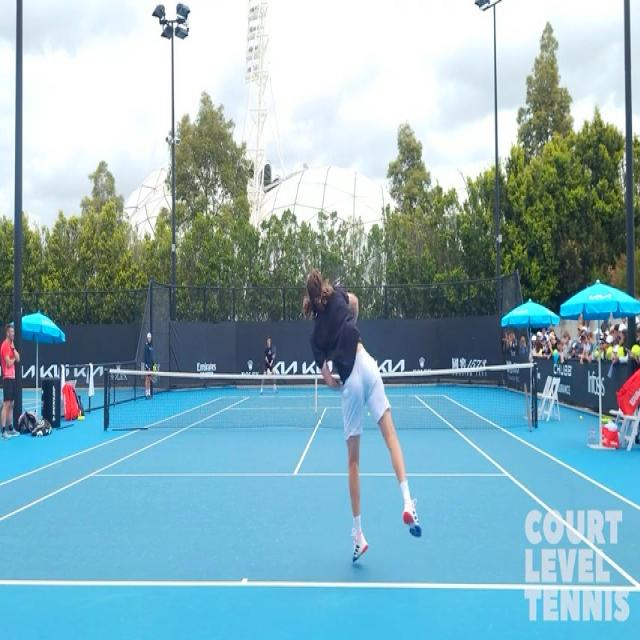serve_followthrough: (296, 268, 423, 570)
